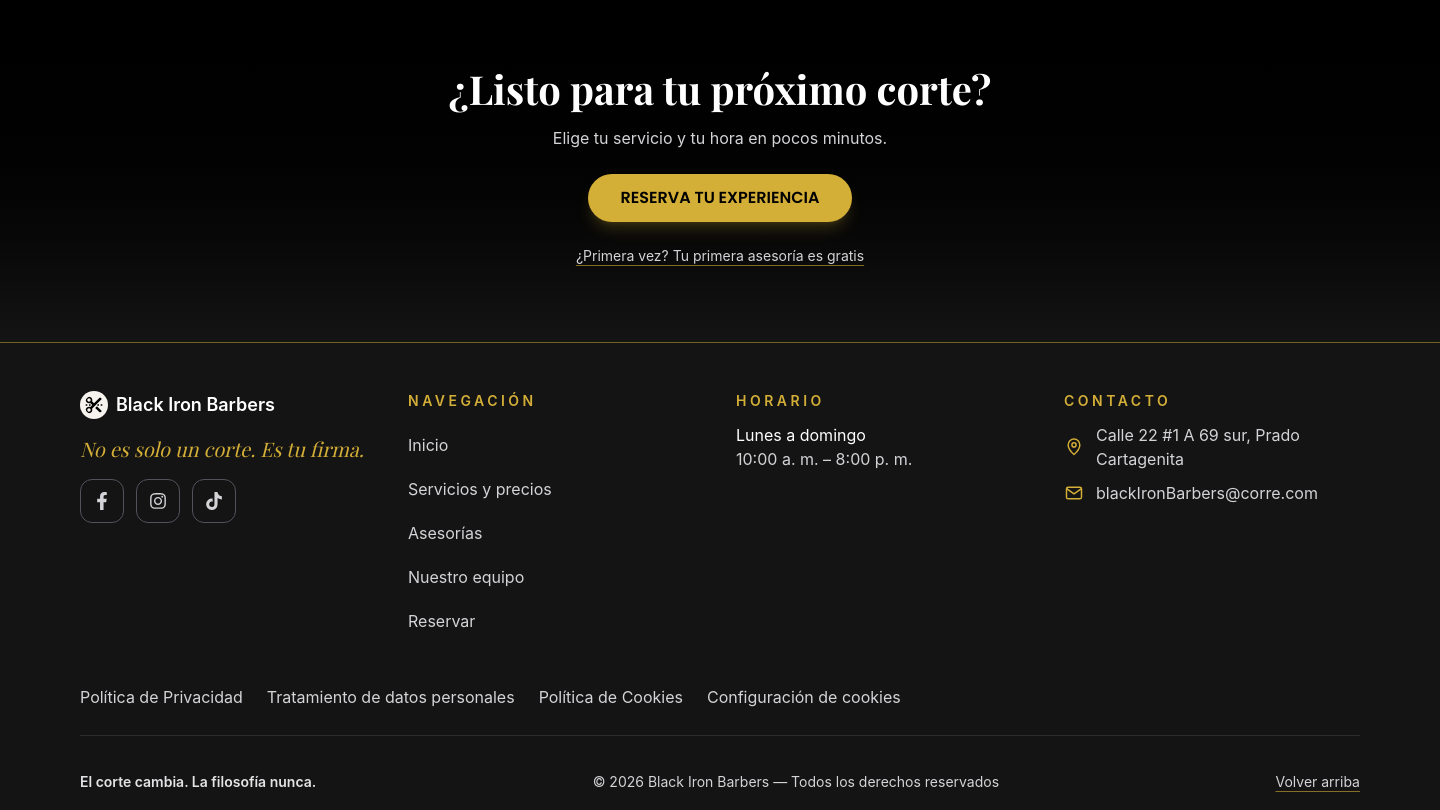
Test: Footer: estructura y destinos › el clic en "Nuestro equipo" va a /#equipo
The image size is (1440, 810).
Click the link "Nuestro equipo".
click(466, 577)  # box [408,567,524,587]
(page scrolled)
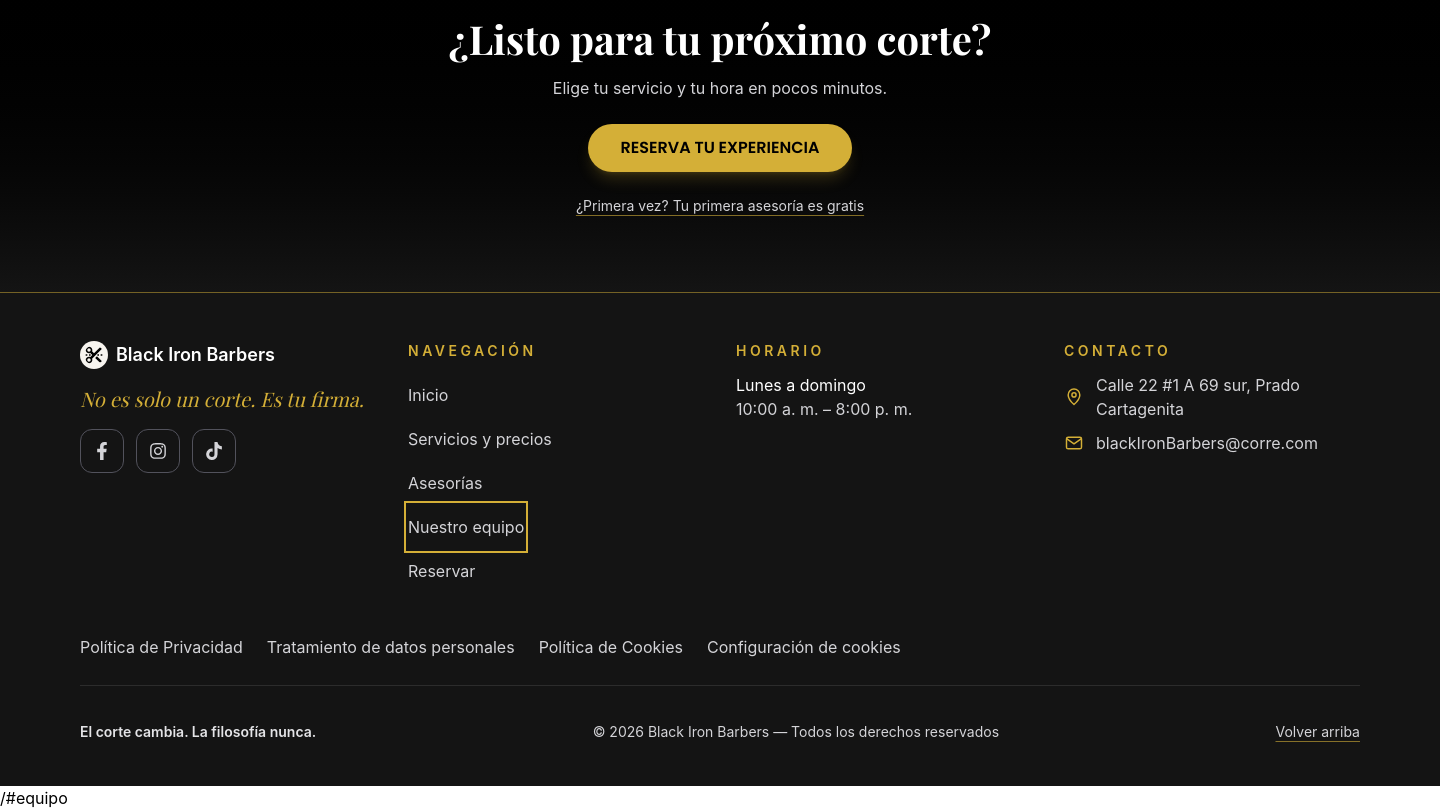
Expected: the text with test id "ruta" reads "/#equipo", [0,788,68,808]
